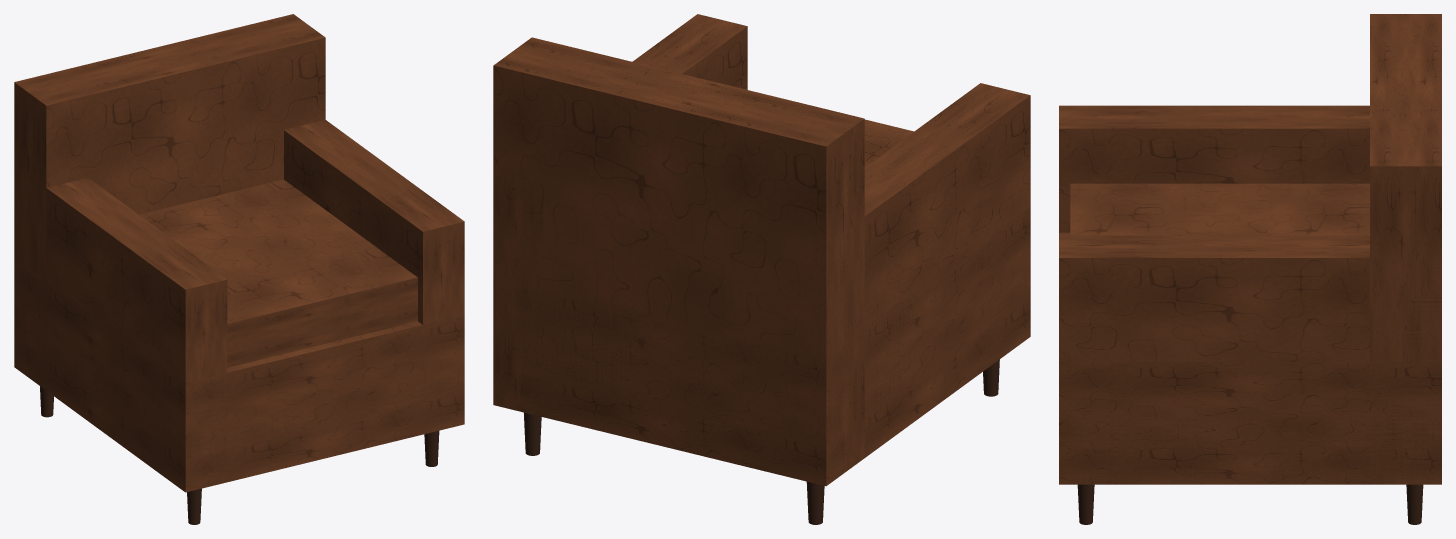
Rendered from club-leather.glb.
The picture shows the model from 3 angles, left to right: view 1: azimuth 30°, elevation 25°; view 2: azimuth 150°, elevation 25°; view 3: azimuth 270°, elevation 25°; orthographic projection. The views are drawn at different scales.
Parts seen in each view (by area): view 1: club-leather; view 2: club-leather; view 3: club-leather.
Boxes of the visible parts, x1,y1,x2,y2 form: club-leather: [14, 14, 464, 524]; club-leather: [493, 14, 1030, 524]; club-leather: [1059, 14, 1441, 524].
Size of the model in its own units: 0.8 by 0.9 by 0.85.
5 materials, 1 textured.
